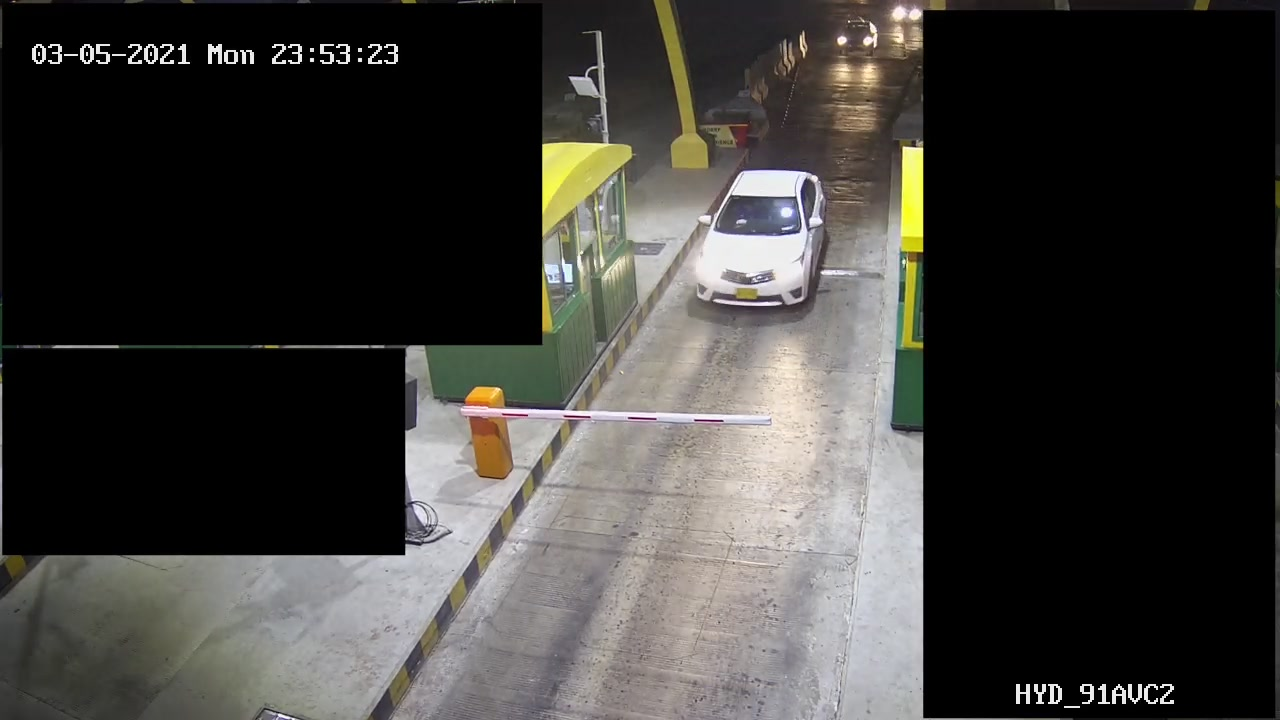F1: (685, 162, 837, 320)
